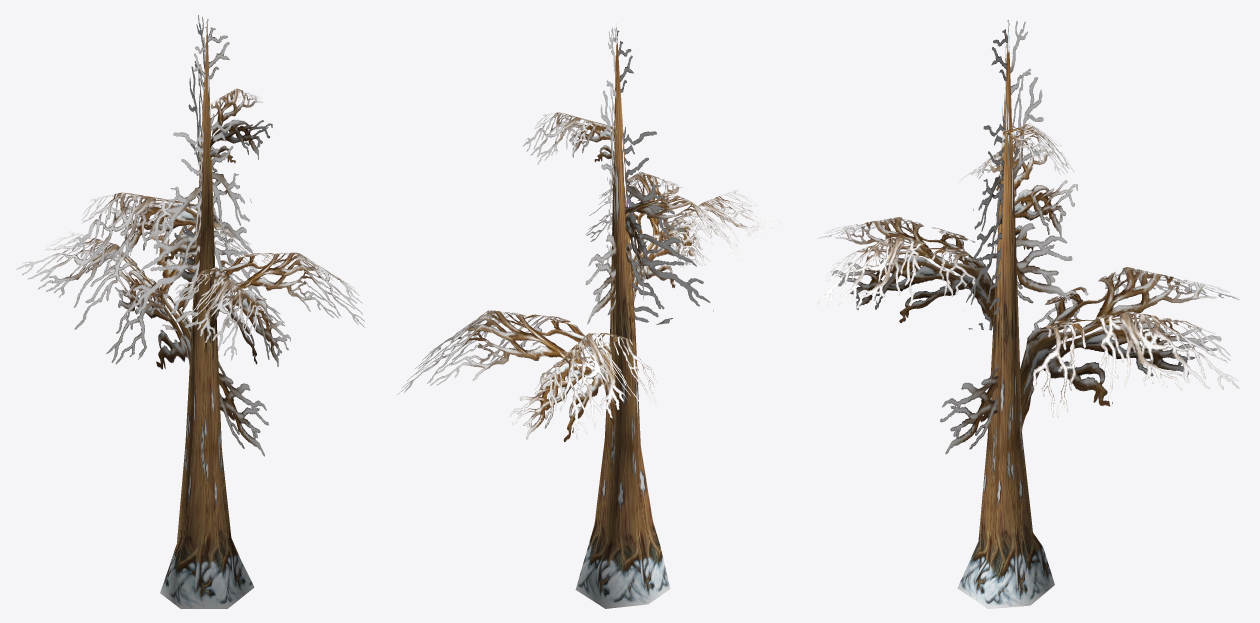
The model's file is wintertree02.obj.
The picture shows the model from 3 angles, left to right: view 1: azimuth 30°, elevation 25°; view 2: azimuth 150°, elevation 25°; view 3: azimuth 270°, elevation 25°; orthographic projection.
Parts seen in each view (by area): view 1: WINTERTREE021, WINTERTREE020; view 2: WINTERTREE021, WINTERTREE020; view 3: WINTERTREE021, WINTERTREE020.
Part boxes in pixels (left/top/right/bottom): WINTERTREE021: left=16, top=15, right=364, bottom=456; WINTERTREE020: left=160, top=22, right=254, bottom=608; WINTERTREE021: left=397, top=23, right=782, bottom=442; WINTERTREE020: left=575, top=24, right=670, bottom=608; WINTERTREE021: left=816, top=20, right=1239, bottom=454; WINTERTREE020: left=957, top=21, right=1054, bottom=608.
Size of the model in its own units: 26.12 by 55.43 by 38.12.
Materials: 2 (2 with a texture image).
